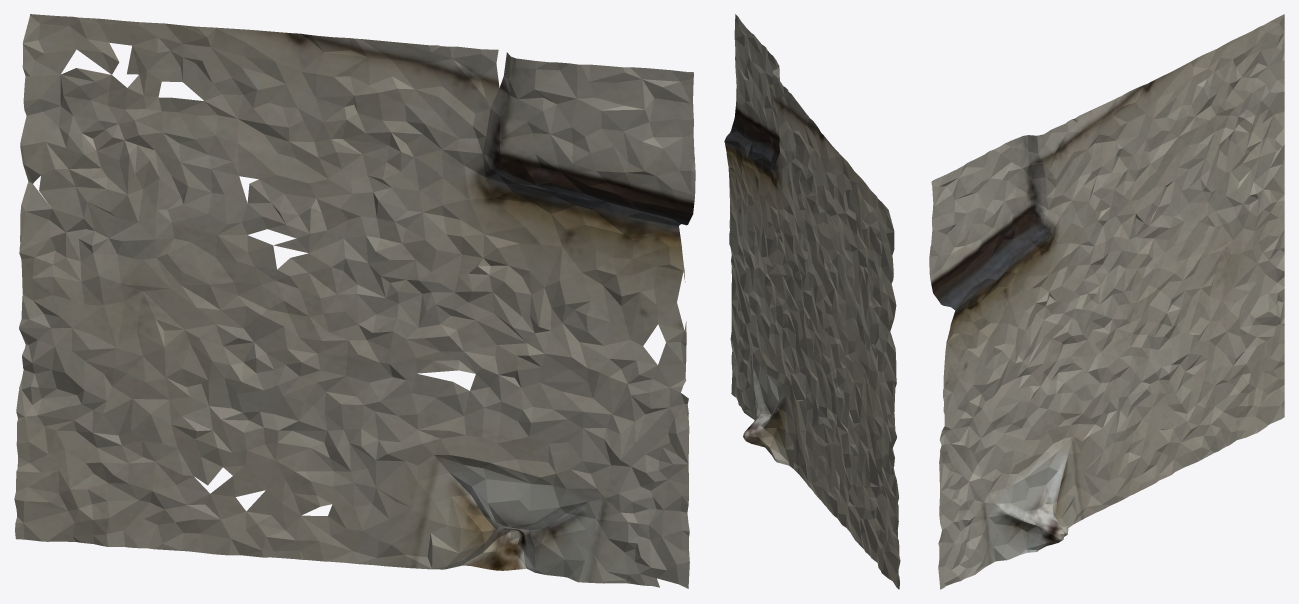
3 views of the same model, side by side, from view 1: azimuth 30°, elevation 25°; view 2: azimuth 150°, elevation 25°; view 3: azimuth 270°, elevation 25° (orthographic). The views are drawn at different scales.
Bounding box in the file's own units: 0.7626 × 0.8374 × 0.6606.
Materials: 3 (3 with a texture image).
